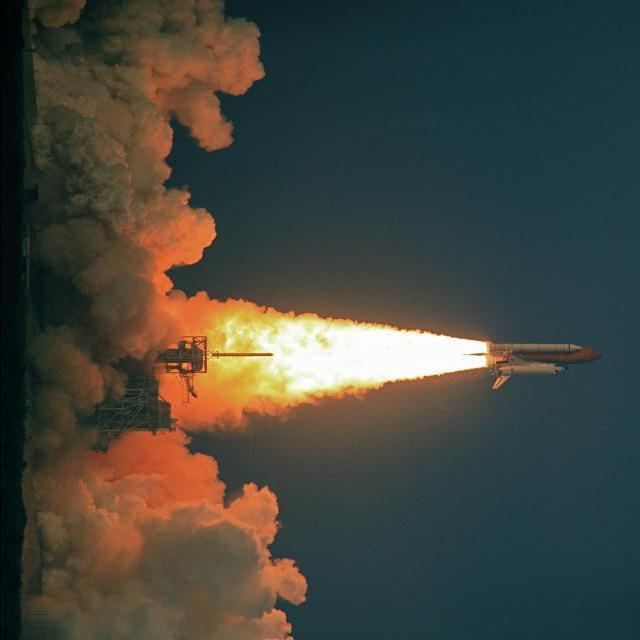missile: (480, 333, 605, 390)
